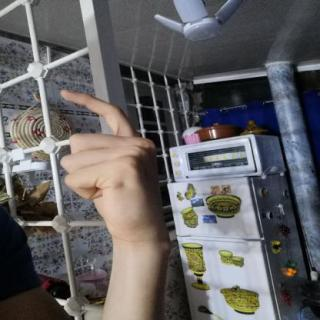RAA: (50, 81, 174, 247)
